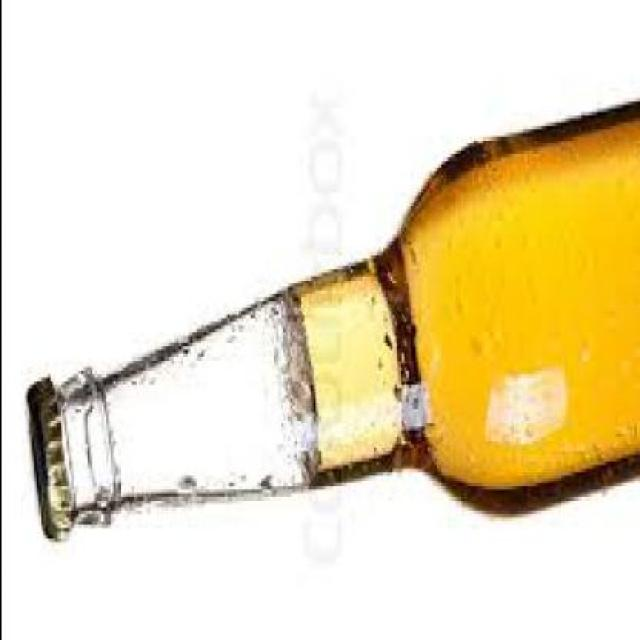GLASS: (44, 101, 638, 528)
METAL: (23, 386, 72, 546)
